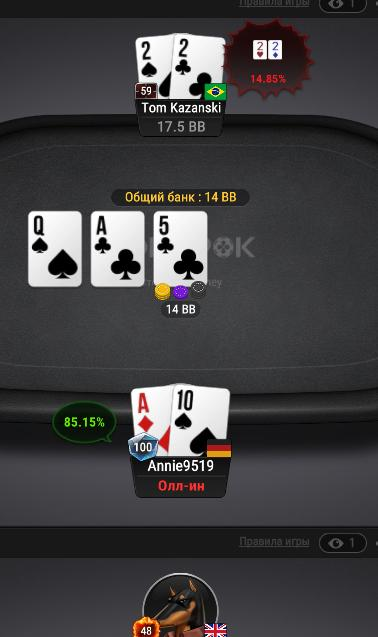10s: (172, 383, 229, 456)
2c: (173, 32, 226, 100)
2s: (136, 34, 174, 98)
5c: (154, 212, 208, 288)
Ac: (91, 212, 144, 288)
Ad: (131, 387, 172, 457)
Qs: (30, 212, 83, 286)
